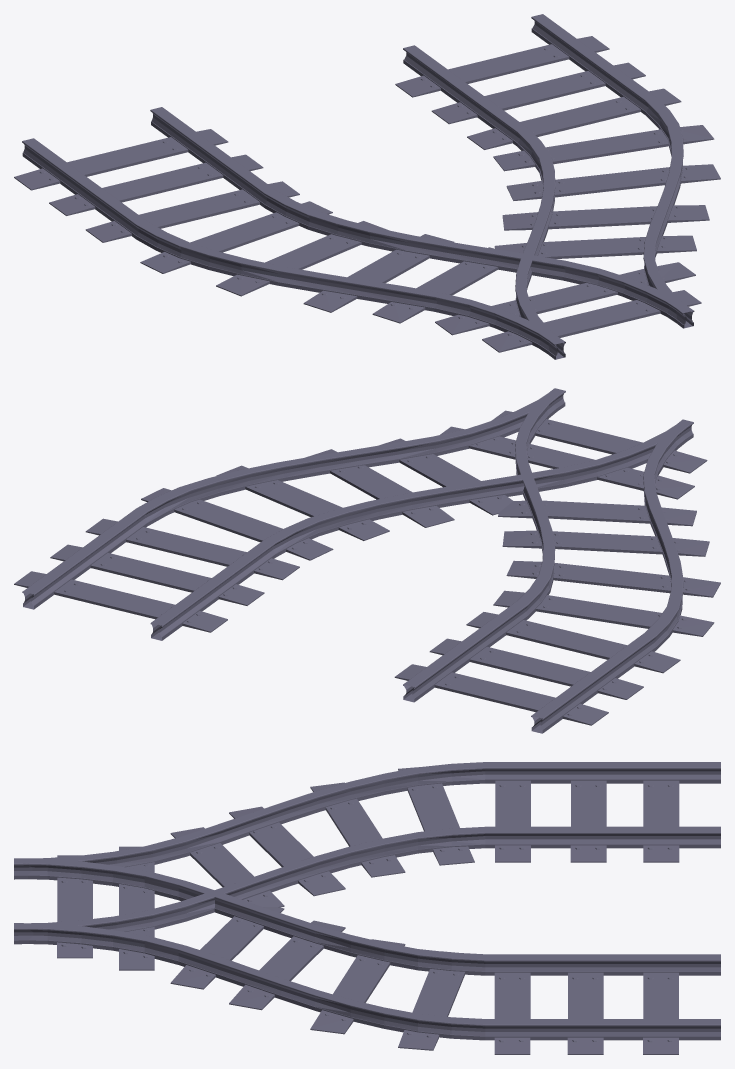
Rendered from Curvo cruzado.fbx.
The picture shows the model from 3 angles, top to bottom: view 1: azimuth 30°, elevation 25°; view 2: azimuth 150°, elevation 25°; view 3: azimuth 270°, elevation 25°; orthographic projection. The views are drawn at different scales.
Visible parts, largest first — view 1: pCube2_polySurface144; view 2: pCube2_polySurface144; view 3: pCube2_polySurface144.
Part boxes in pixels (x1,y1,x2,y2): pCube2_polySurface144: (14,14,720,359); pCube2_polySurface144: (14,388,720,733); pCube2_polySurface144: (14,762,720,1054).
Size of the model in its own units: 11.38 by 0.2888 by 11.65.
